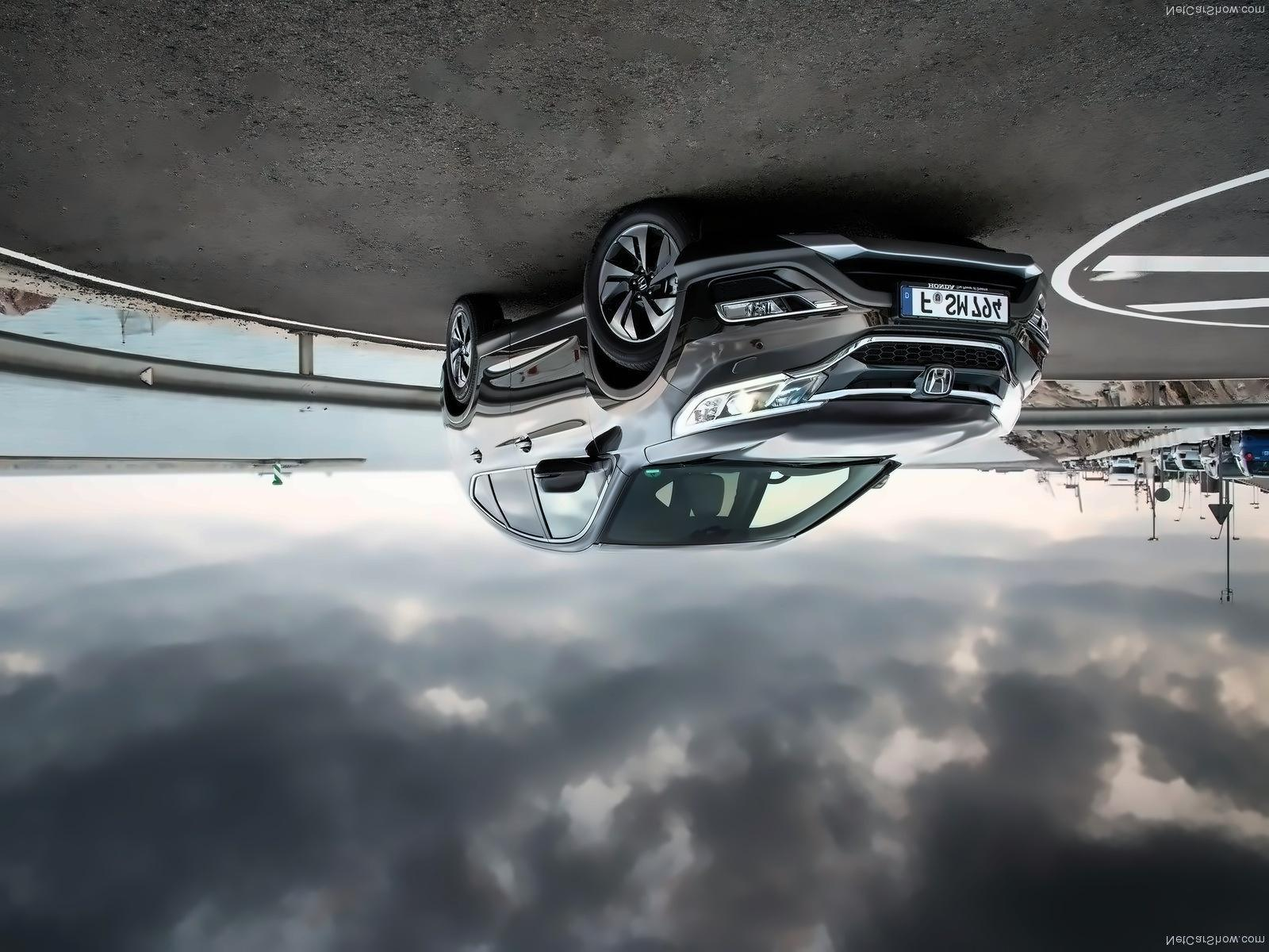Car hood: (645, 423, 1005, 473)
Fender - -F-L-: (573, 309, 684, 468)
Fender - -R-L-: (429, 370, 487, 503)
Front bumper: (656, 236, 1060, 352)
Headlight - -L-: (672, 364, 833, 438)
Headlight - -R-: (997, 382, 1021, 439)
Passenger-s door - -F-L-: (501, 284, 628, 561)
Passenger-s door - -R-L-: (462, 318, 553, 557)
Side bumper - -L-: (475, 295, 585, 381)
Side mirror - -L-: (526, 450, 613, 499)
